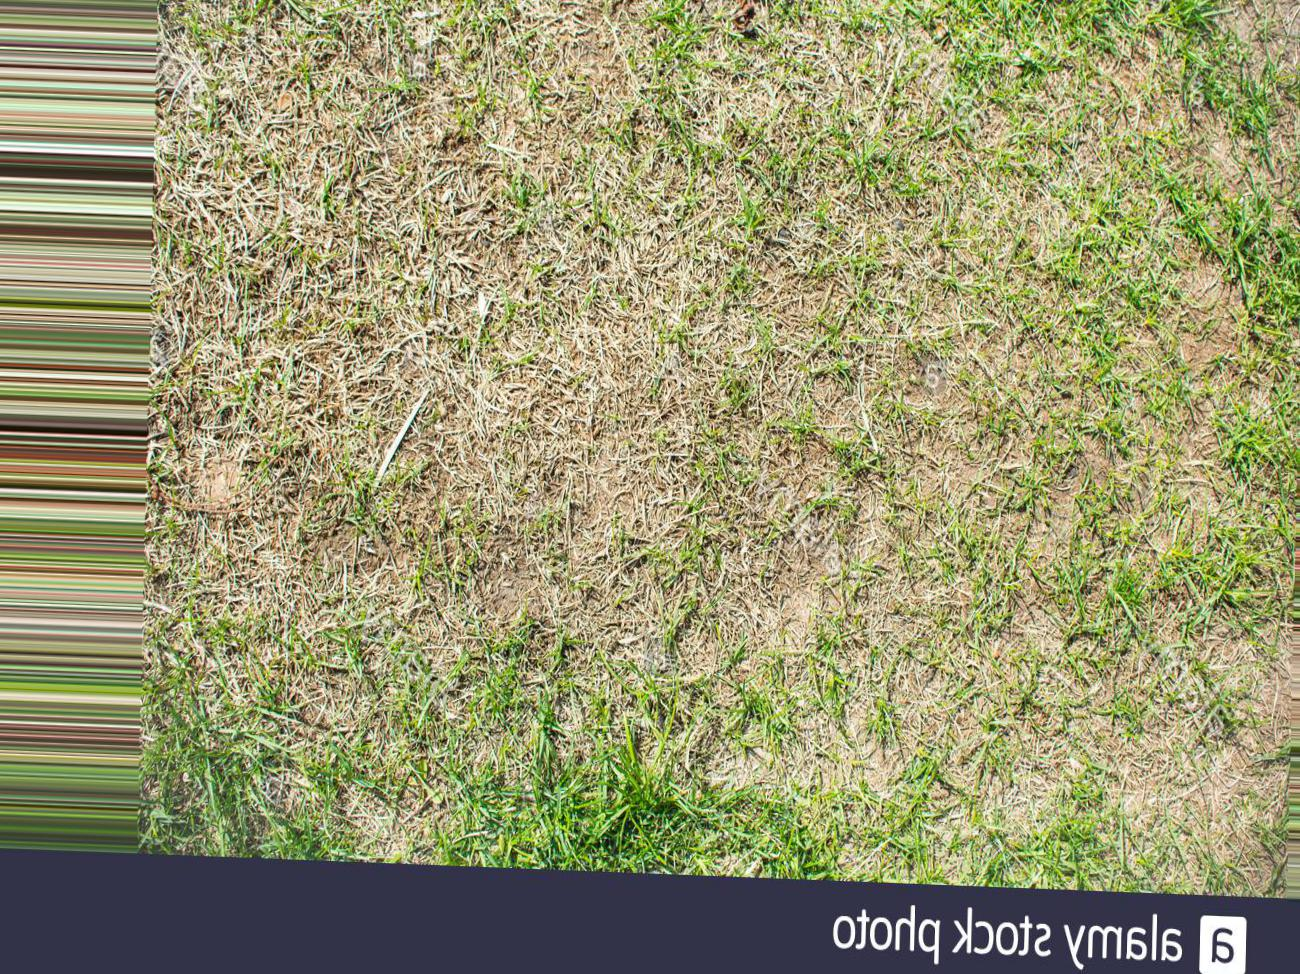patch: (344, 119, 809, 549), (732, 591, 1243, 860)
